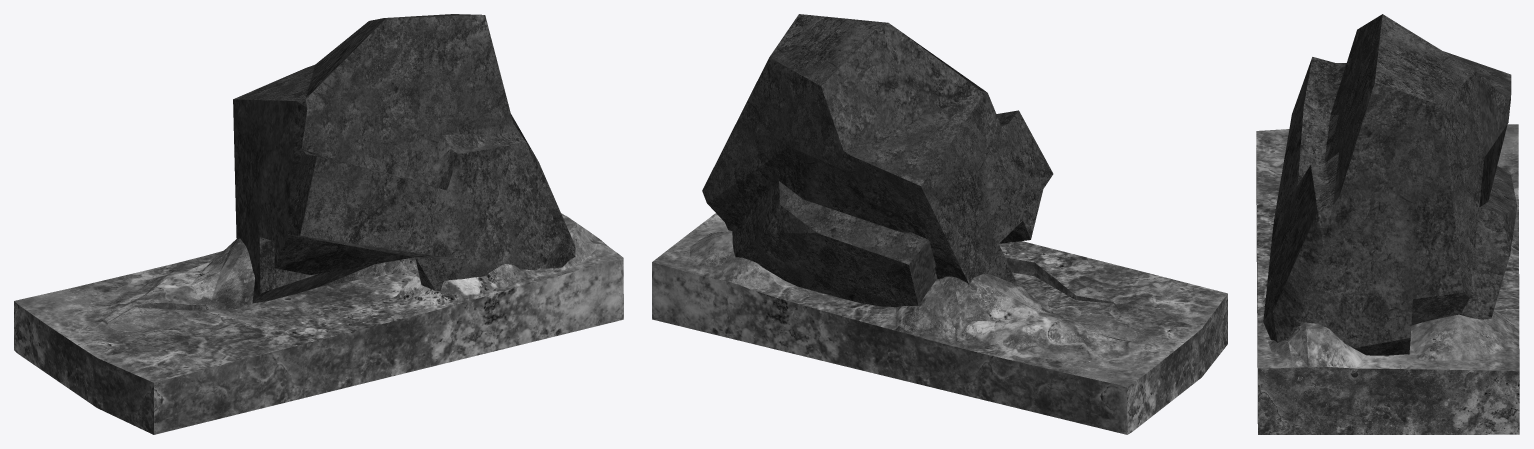
The model's file is mass.glb.
3 views of the same model, side by side, from view 1: azimuth 30°, elevation 25°; view 2: azimuth 150°, elevation 25°; view 3: azimuth 270°, elevation 25° (orthographic). The views are drawn at different scales.
Parts seen in each view (by area): view 1: Cube.039; view 2: Cube.039; view 3: Cube.039.
Boxes of the visible parts, box(x1,y1,x2,y2) form: Cube.039: box(14, 14, 623, 434); Cube.039: box(652, 14, 1227, 434); Cube.039: box(1256, 14, 1519, 434).
Bounding box in the file's own units: 45.55 × 28.51 × 19.67.
Materials: 2 (2 with a texture image).
